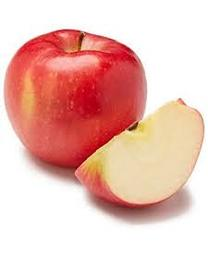apple: (2, 28, 147, 167), (73, 96, 204, 207)
